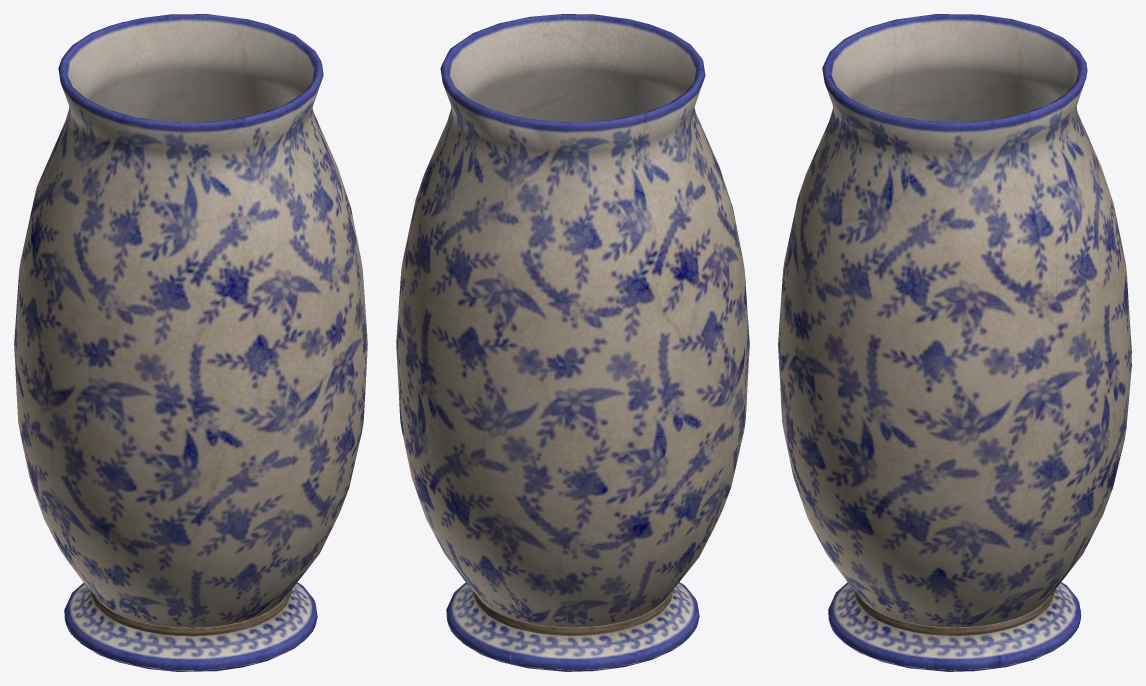
Rendered from antique_ceramic_vase_01.glb.
3 renders of one model, left to right at view 1: azimuth 30°, elevation 25°; view 2: azimuth 150°, elevation 25°; view 3: azimuth 270°, elevation 25°, orthographic.
Parts seen in each view (by area): view 1: antique_ceramic_vase_01; view 2: antique_ceramic_vase_01; view 3: antique_ceramic_vase_01.
Part boxes in pixels (x1,y1,x2,y2): antique_ceramic_vase_01: [14, 14, 367, 671]; antique_ceramic_vase_01: [396, 14, 749, 671]; antique_ceramic_vase_01: [778, 14, 1131, 671].
Bounding box in the file's own units: 0.2554 × 0.4397 × 0.2556.
1 material, 1 textured.
